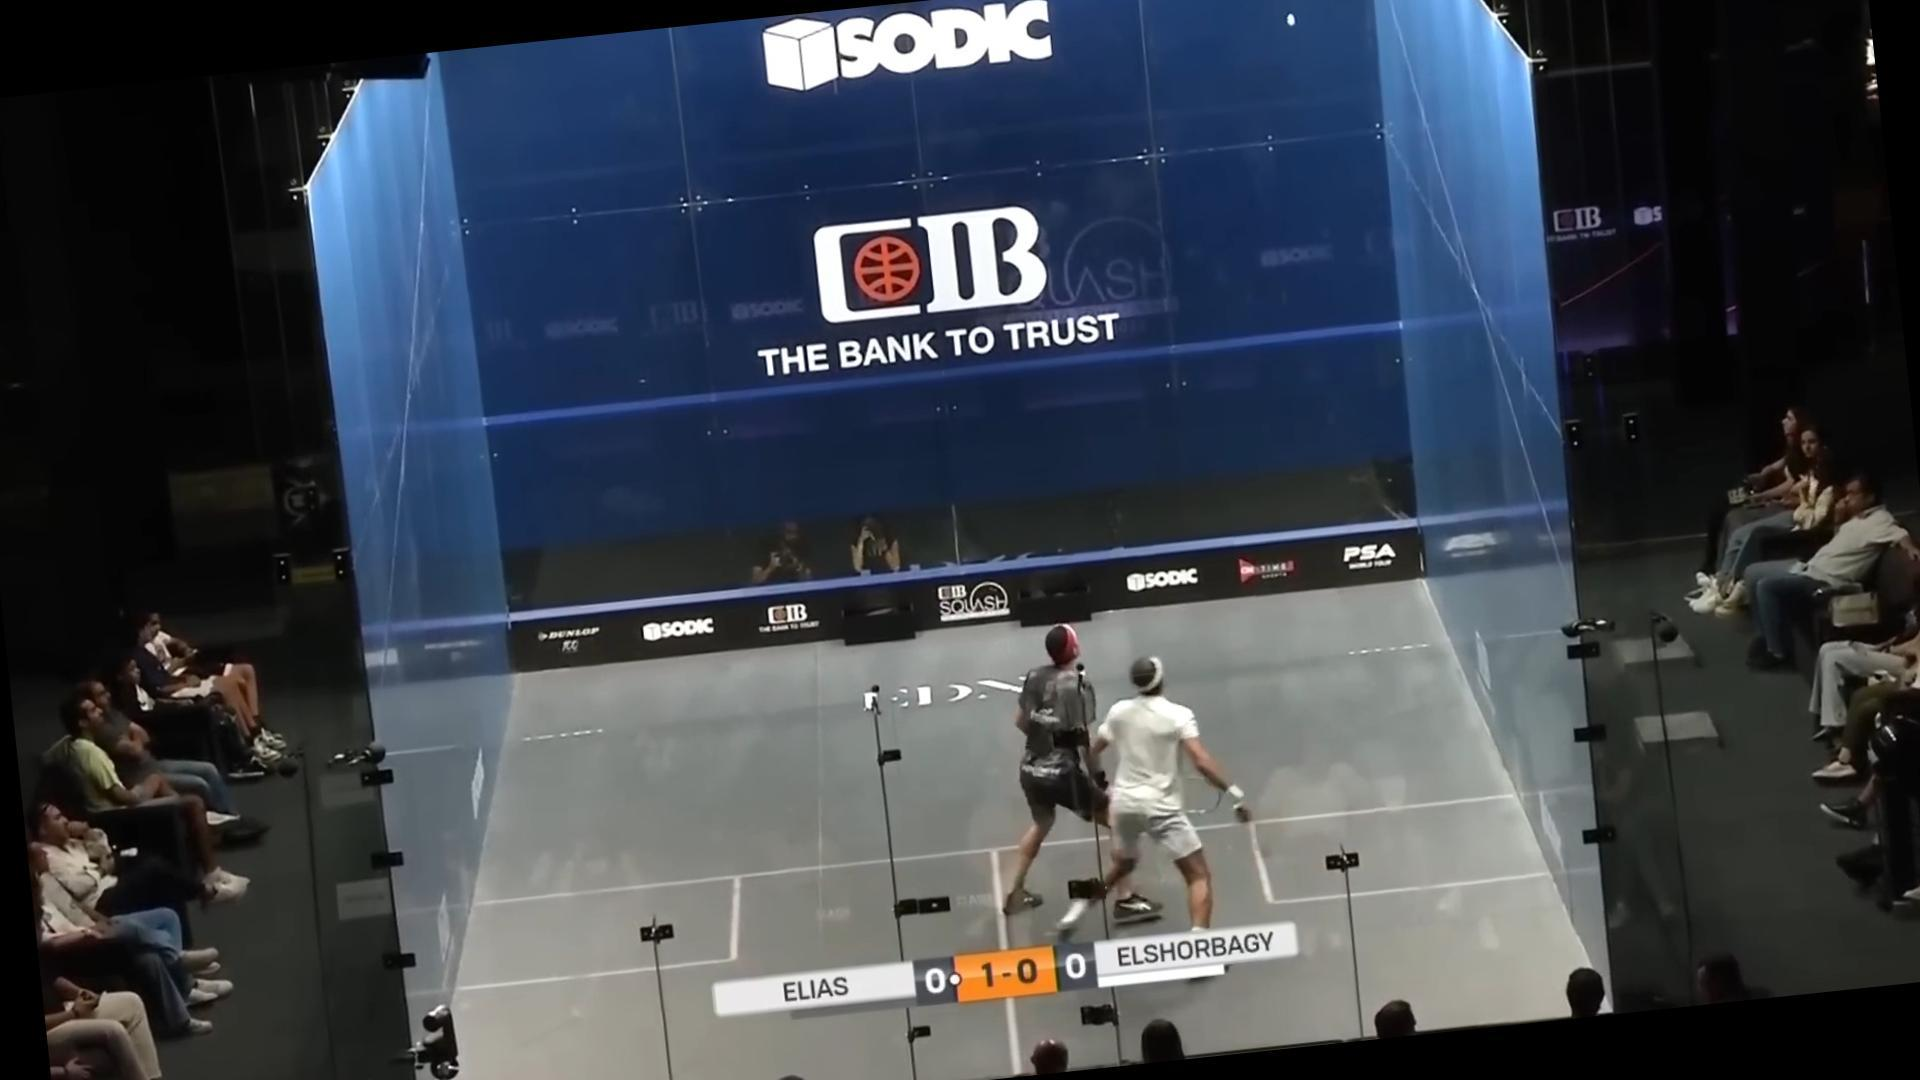Squash-Ball: (1275, 3, 1307, 37)
